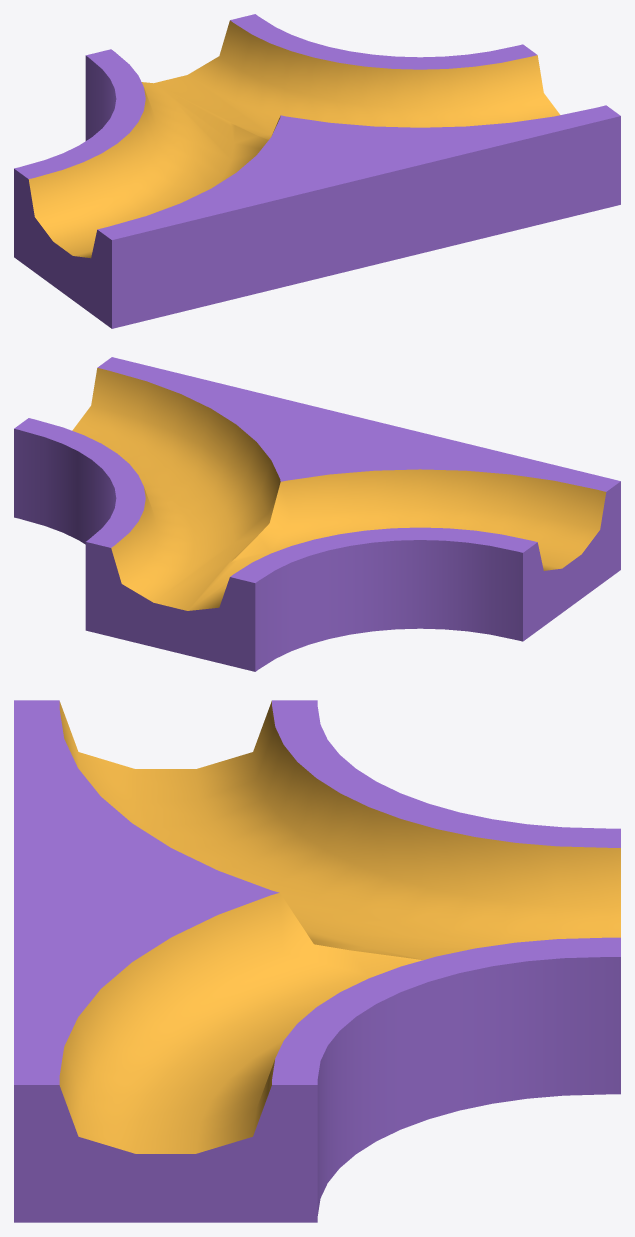
The model's file is split-double-sides-solid.glb.
3 views of the same model, one above another, from view 1: azimuth 30°, elevation 25°; view 2: azimuth 150°, elevation 25°; view 3: azimuth 270°, elevation 25° (orthographic). The views are drawn at different scales.
Parts seen in each view (by area): view 1: split-double-sides-solid; view 2: split-double-sides-solid; view 3: split-double-sides-solid.
Boxes of the visible parts, x1,y1,x2,y2 form: split-double-sides-solid: (14,14,620,328); split-double-sides-solid: (14,357,620,671); split-double-sides-solid: (14,700,620,1222).
Size of the model in its own units: 3 by 0.4999 by 2.
1 material, 1 textured.
